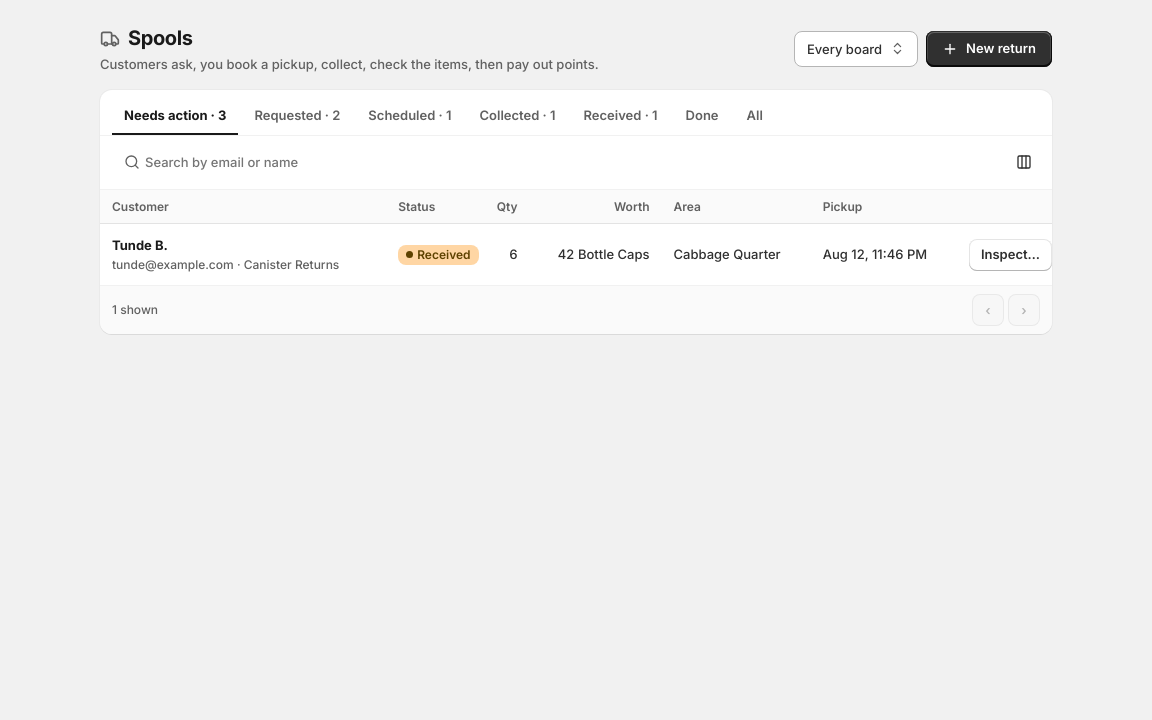
Test: the returns queue › derives rejected as arrived minus accepted — a readout, not a third box — and sends the derived pair
Click the button "Inspect…" at (1010, 254), box [969,238,1052,270]
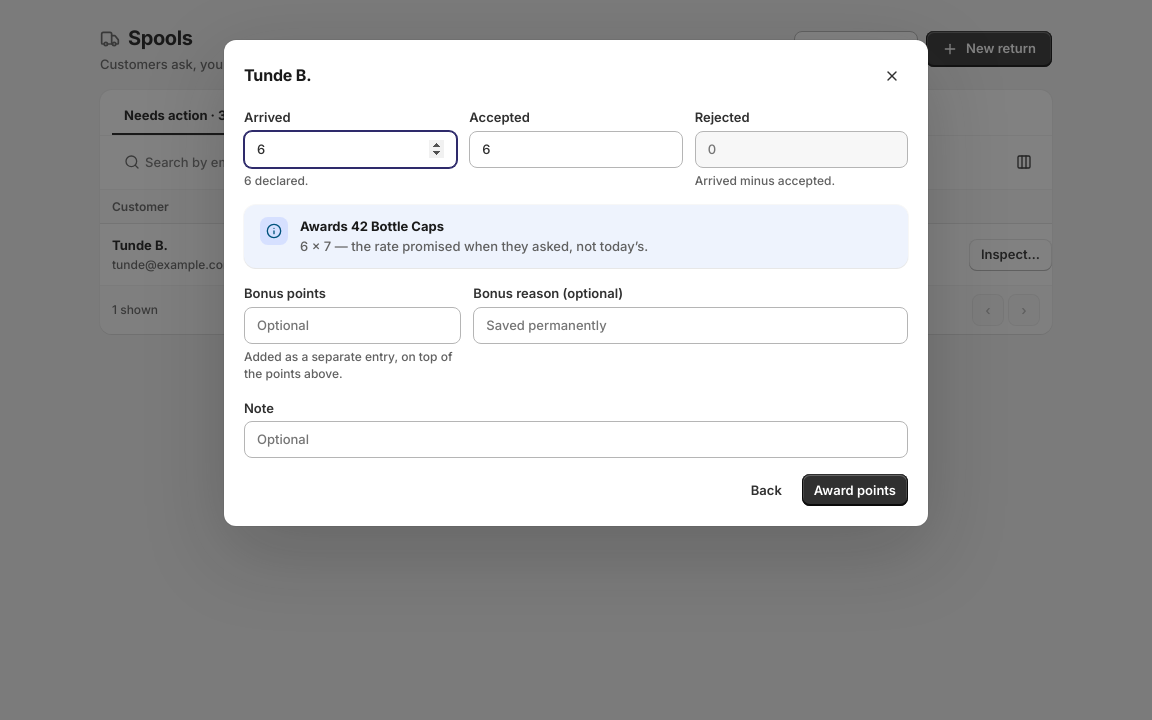
Expected: the number field labelled "Arrived" holds "6", [244,131,457,168]
Expected: the number field labelled "Accepted" holds "6"
Expected: the field labelled "Rejected" holds "0", [695,131,908,168]
Replace the text in the number field labelled "Accepted" with "4" at (576, 149), box [469,131,683,168]
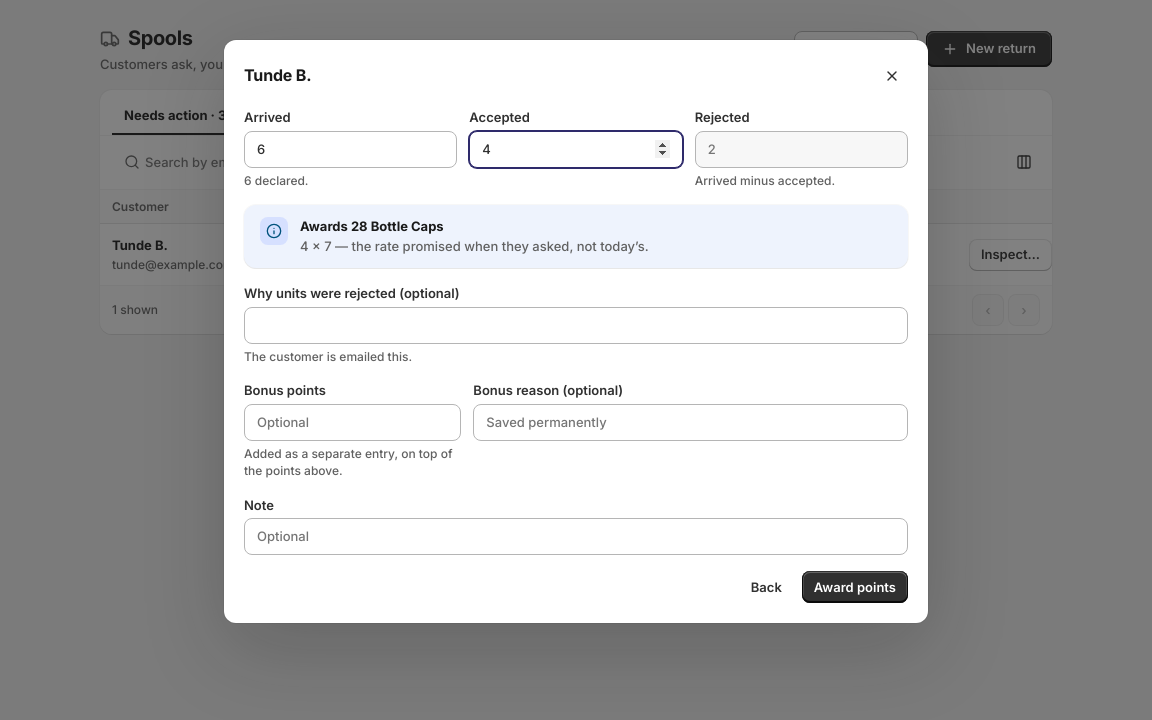
Expected: the field labelled "Rejected" holds "2", [695,131,908,168]
Expected: the text "Awards 28 Bottle Caps" is shown, [300,218,444,234]
Type "Two crushed flat" into the field labelled "Why units were rejected (optional)" at (576, 325), box [244,307,908,344]
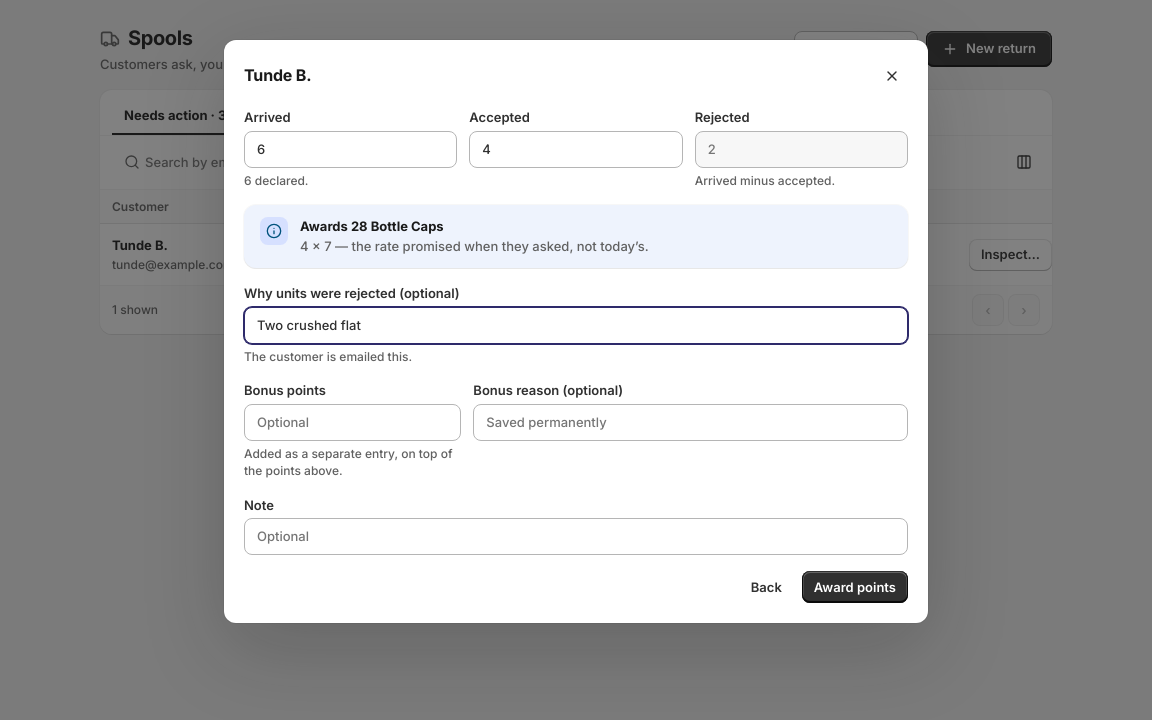
Click the button "Award points" at (855, 587), box [802,571,908,603]
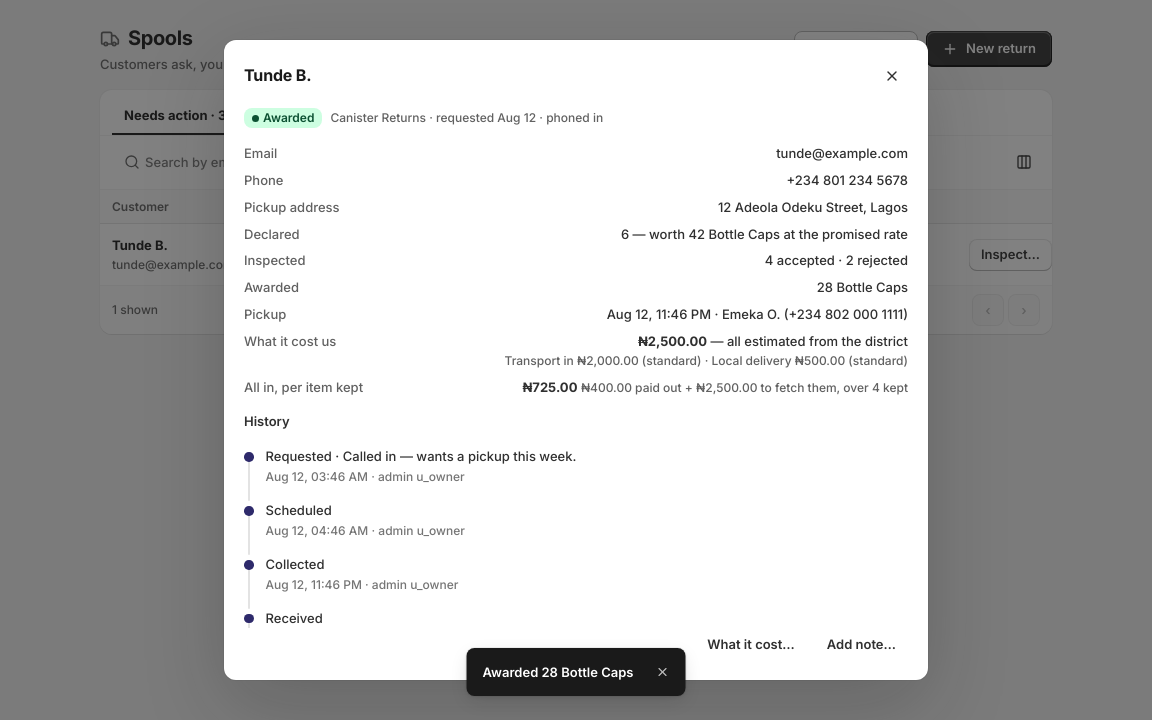
Expected: the text "Awarded 28 Bottle Caps" is shown, [482,663,634,681]
Expected: the text "4 accepted · 2 rejected" is shown, [765,251,908,270]
